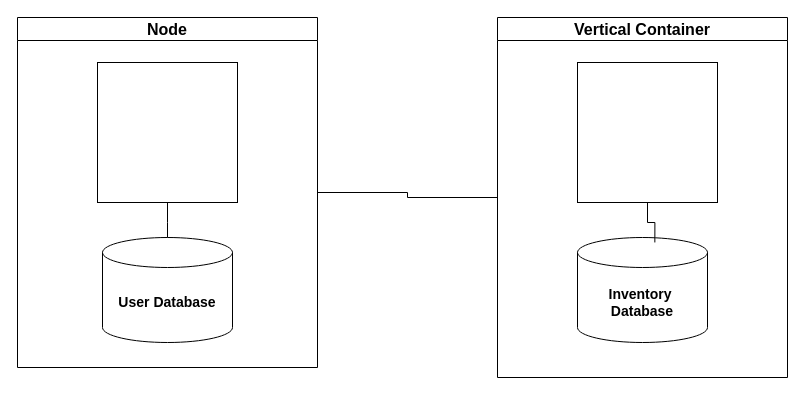
This 805x395 diagram has some shape labels left out. The shapes that lost their labels are listed below. From the top down, each one's centre as x and y in pixels, then its label:
the point at 167,132: <<artifact >> Facebook Gift App
the point at 647,132: <<artifact >> Gift/Card Storefront API
